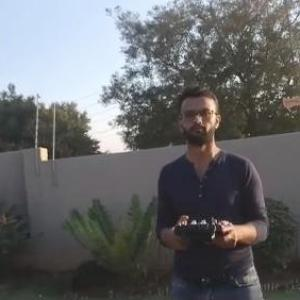follow: (146, 71, 278, 299)
